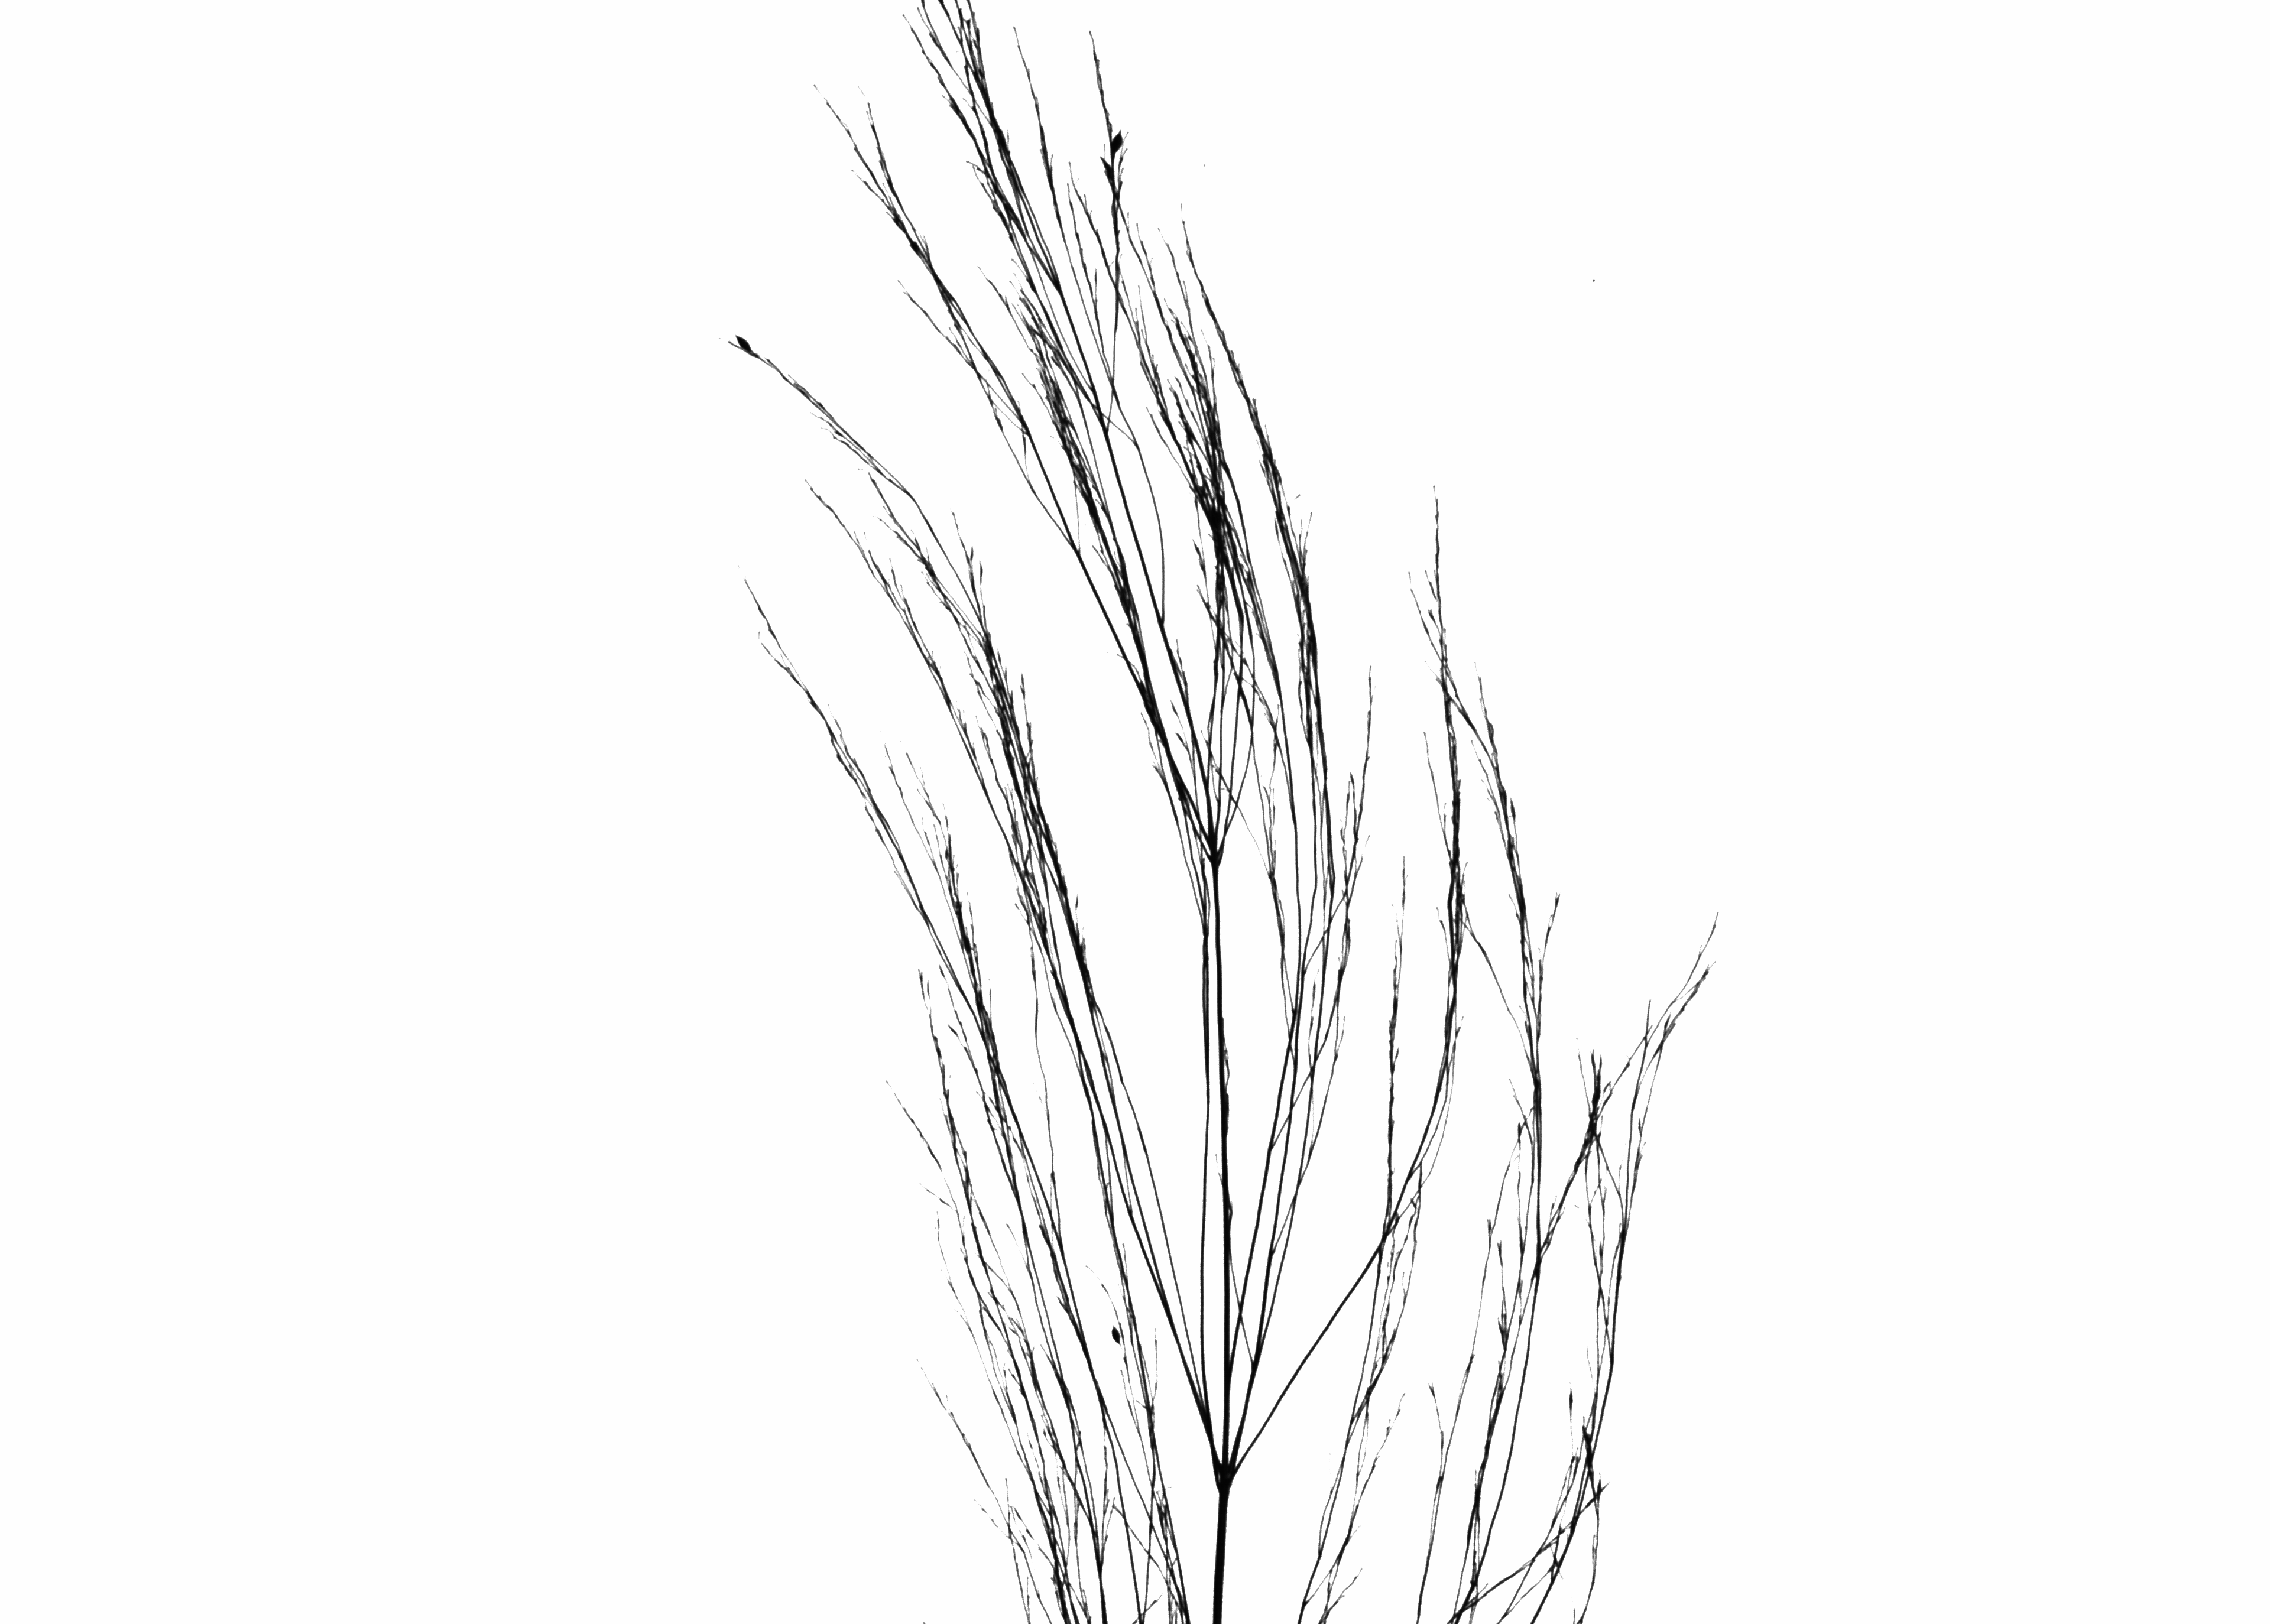seed: (731, 330, 758, 357), (1110, 125, 1125, 156), (1108, 1322, 1124, 1345)
